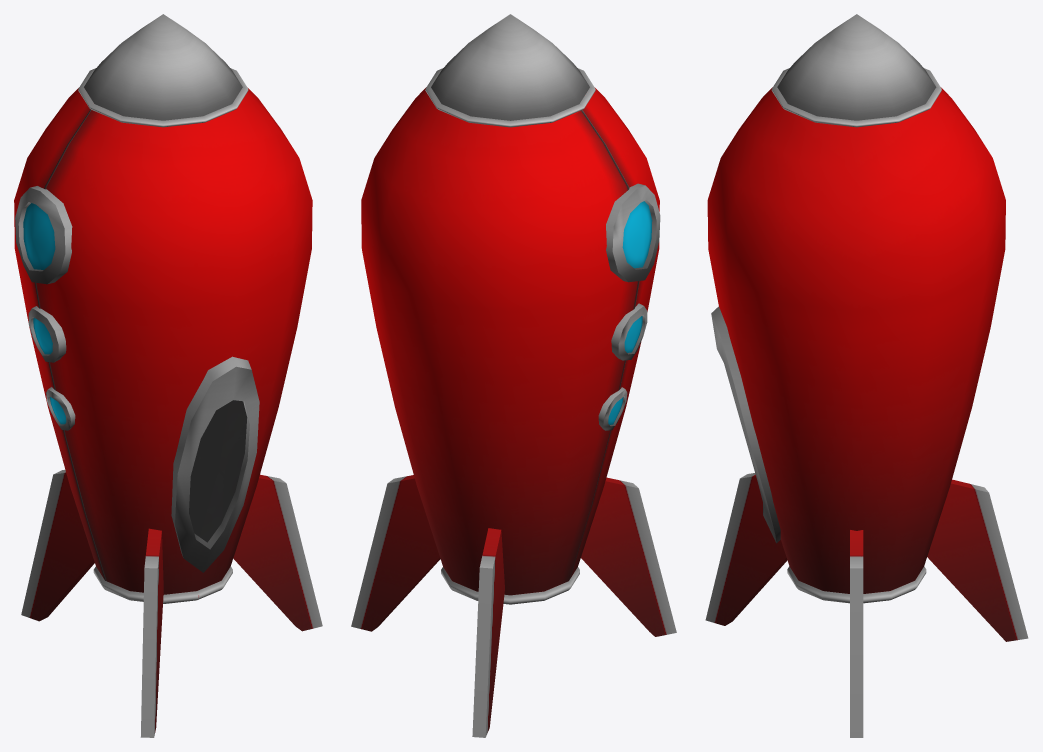
The model's file is Rocket.FBX.
The picture shows the model from 3 angles, left to right: view 1: azimuth 30°, elevation 25°; view 2: azimuth 150°, elevation 25°; view 3: azimuth 270°, elevation 25°; orthographic projection.
Visible parts, largest first — view 1: Rocket; view 2: Rocket; view 3: Rocket.
Boxes of the visible parts, x1=… form: Rocket: x1=14, y1=14, x2=322, y2=737; Rocket: x1=351, y1=14, x2=676, y2=737; Rocket: x1=705, y1=14, x2=1028, y2=737.
Size of the model in its own units: 2.2 by 4.67 by 2.11.
